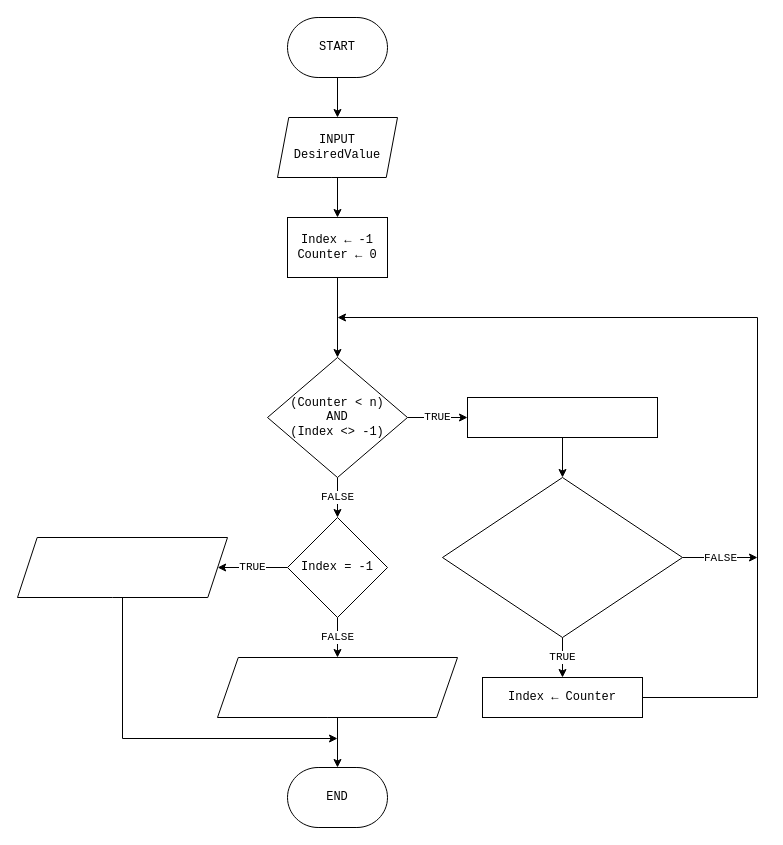
Image size: 783x845. Some labels were removed from this diagram. Here are the shapes that lost their labels. From the top down, the centre of each, then its label:
pixel 562 417: Counter ← Counter + 1
pixel 122 567: OUTPUT "The element entered was not found."
pixel 562 557: ItemDescription[Counter] = DesiredValue
pixel 337 687: OUTPUT "The element entered was found at", Index
